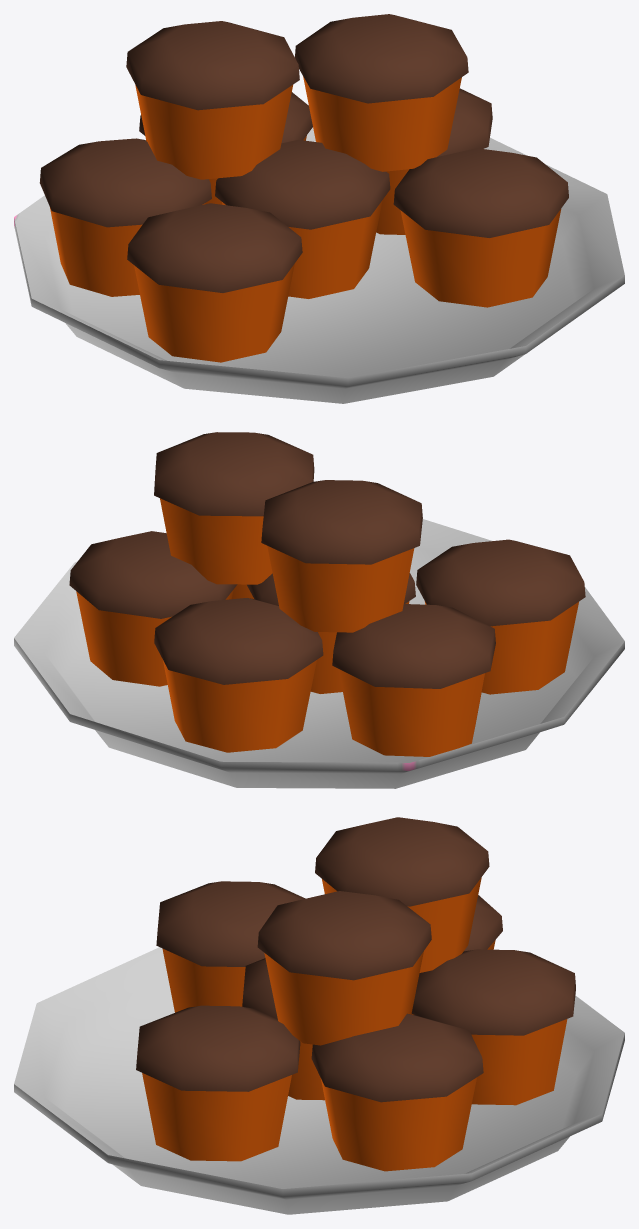
File: furniture_decor_210021.glb
3 renders of one model, top to bottom at view 1: azimuth 30°, elevation 25°; view 2: azimuth 150°, elevation 25°; view 3: azimuth 270°, elevation 25°, orthographic. The views are drawn at different scales.
Visible parts, largest first — view 1: furniture_decor_210021; view 2: furniture_decor_210021; view 3: furniture_decor_210021.
Boxes of the visible parts, <box> form: furniture_decor_210021: <box>14,14,624,403</box>; furniture_decor_210021: <box>14,432,624,788</box>; furniture_decor_210021: <box>14,817,624,1214</box>.
Size of the model in its own units: 0.2812 by 0.118 by 0.2777.
Materials: 1 (1 with a texture image).
